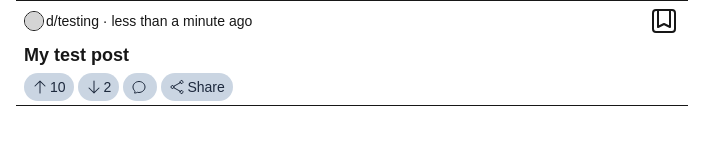
Test: Post Component — Upvote/Downvote › saves post when save button is clicked
Click the icon with test id "save-button": (664, 21) [648,5,680,37]
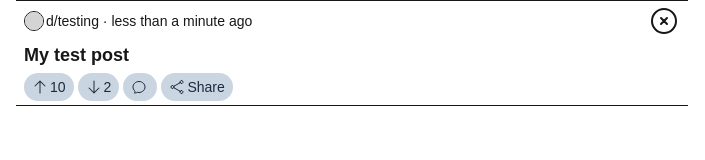
Now the icon with test id "unsave-button" is shown, box [648,5,680,37]
